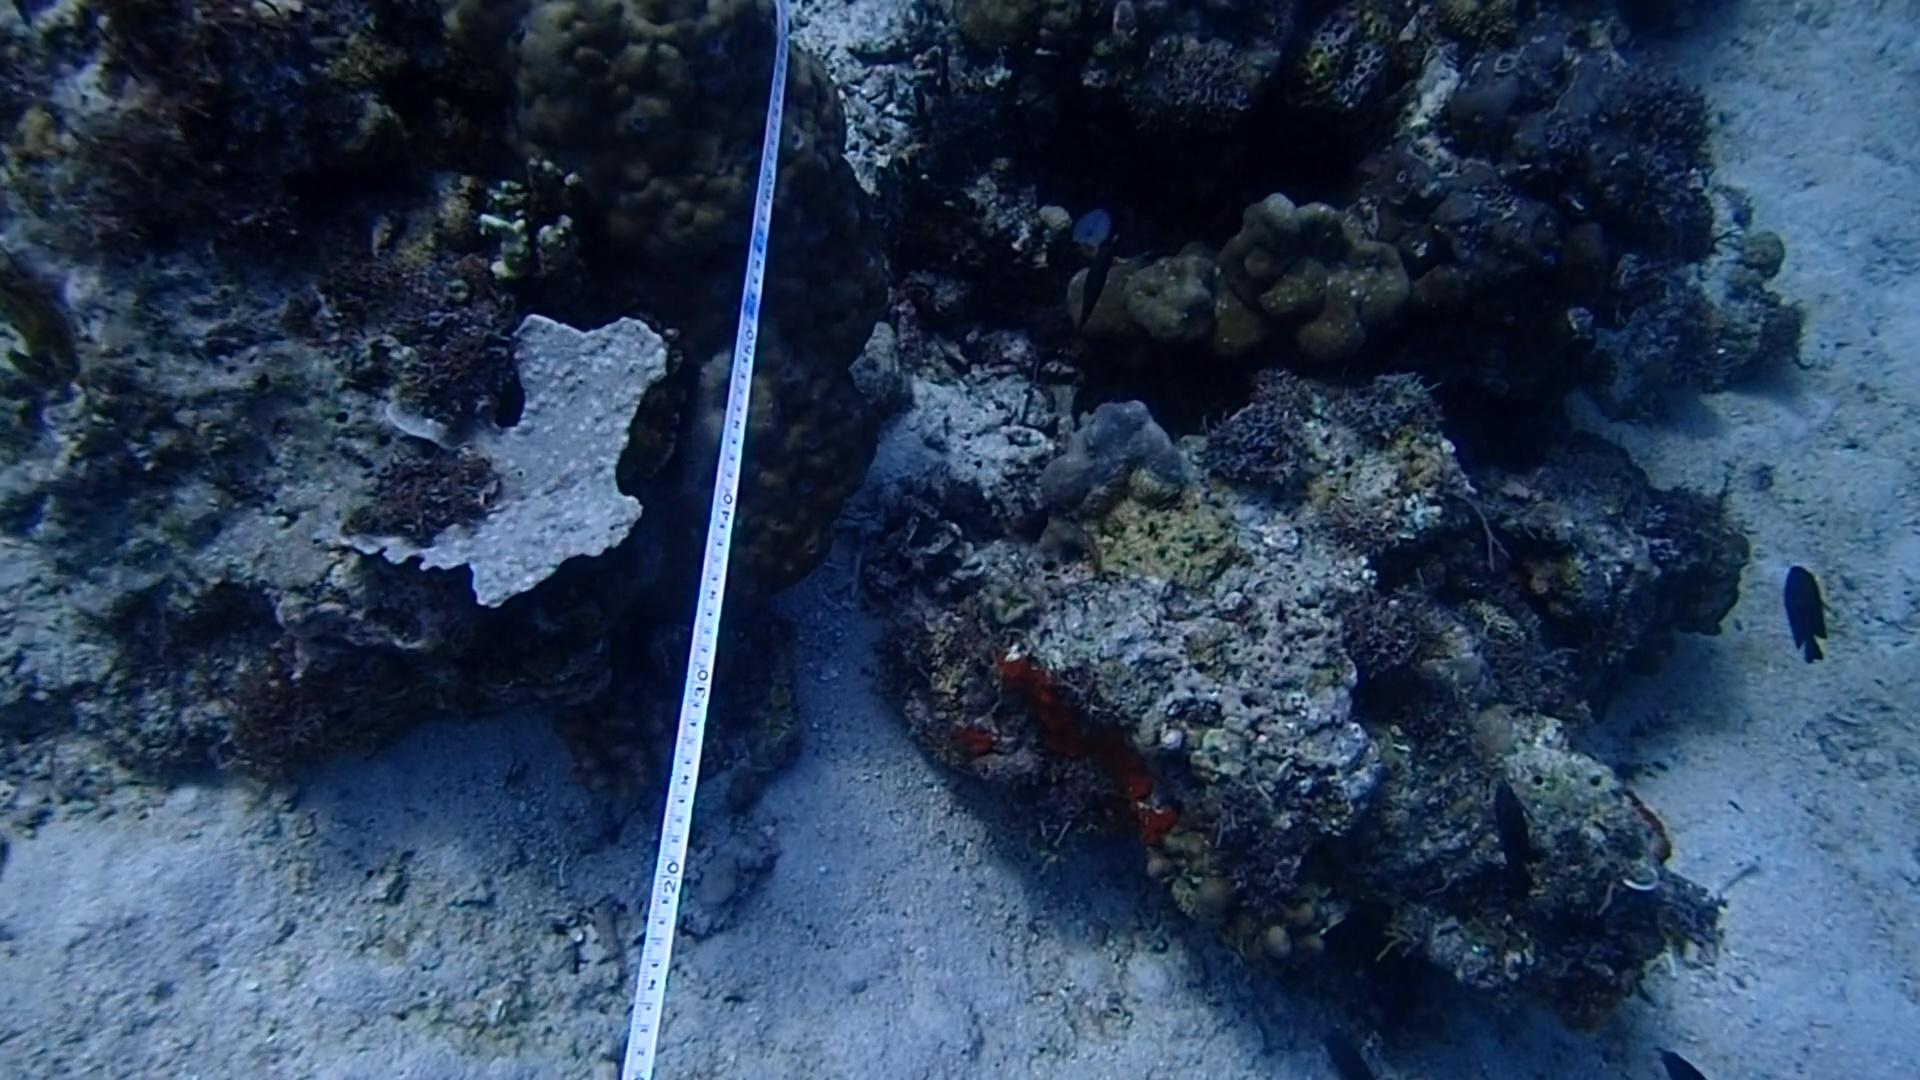Dark Fish: (1472, 767, 1553, 909), (1775, 555, 1850, 675), (1062, 224, 1134, 335)
